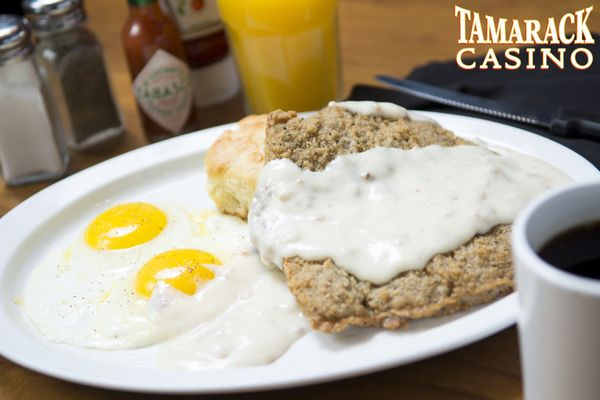pizza: (510, 178, 600, 395), (216, 0, 341, 115)
